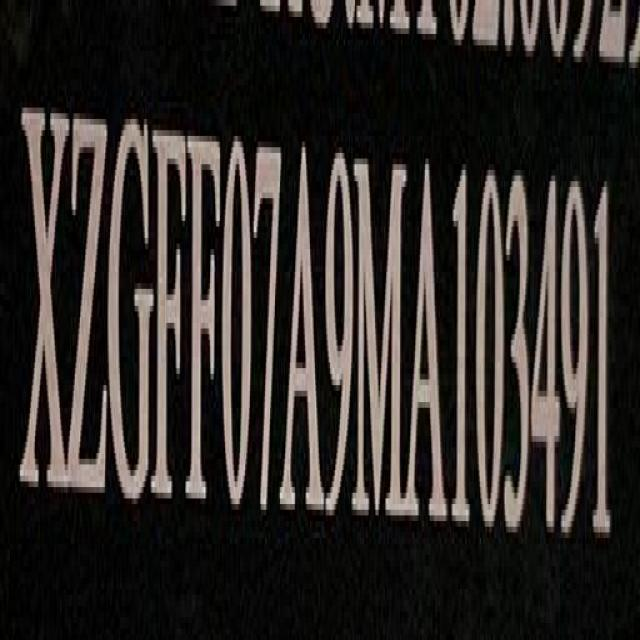0: (222, 129, 254, 525), (476, 164, 506, 544)
1: (450, 157, 474, 537), (593, 180, 613, 560)
3: (503, 157, 531, 535)
4: (533, 169, 559, 546)
7: (249, 128, 283, 516)
9: (324, 149, 354, 525), (562, 175, 588, 556)
A: (286, 134, 324, 526), (409, 149, 446, 538)
F: (153, 116, 190, 524), (190, 110, 222, 522)
G: (110, 104, 152, 514)
M: (354, 146, 408, 534)
X: (22, 107, 68, 497)
Z: (68, 98, 108, 514)
